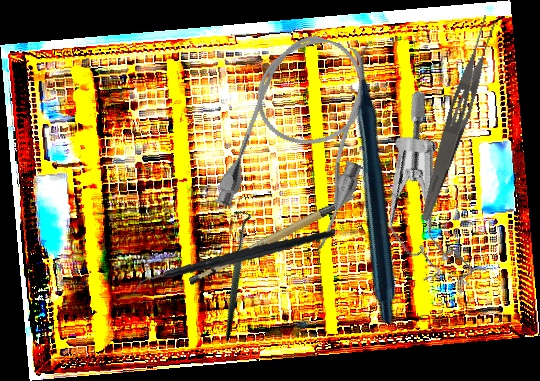Cannula: (210, 21, 399, 255)
Chopper: (132, 208, 336, 316)
Dressing Forceps: (416, 13, 502, 225)
Handpiece: (246, 38, 514, 328)
Hook Surgical: (170, 206, 296, 342)
Scalpel Handle: (180, 193, 368, 288)
Speculum: (330, 87, 531, 307)
